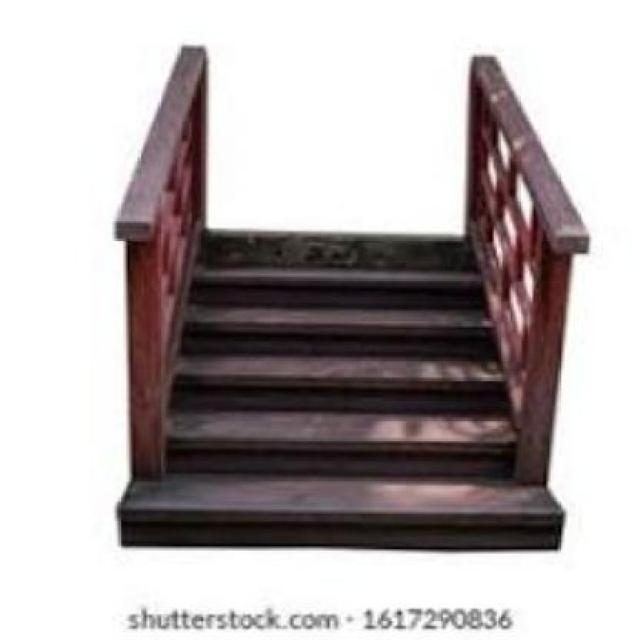stair: (144, 195, 518, 537)
